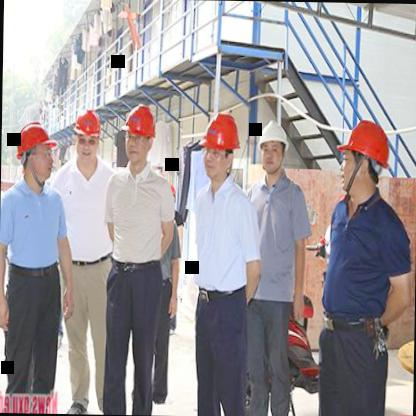helmet: (338, 114, 394, 198), (11, 113, 59, 186), (200, 113, 240, 185), (120, 104, 158, 168), (70, 105, 104, 169), (255, 116, 289, 177)
